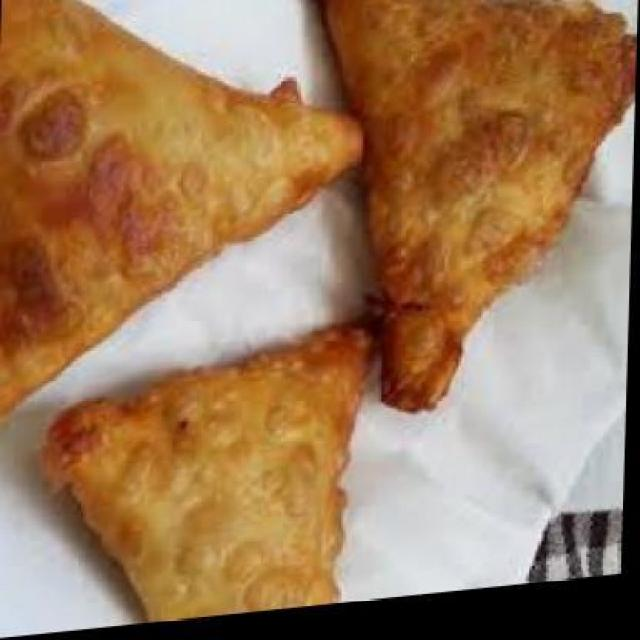samosa: (0, 0, 371, 425), (300, 0, 638, 431), (46, 320, 382, 635)
